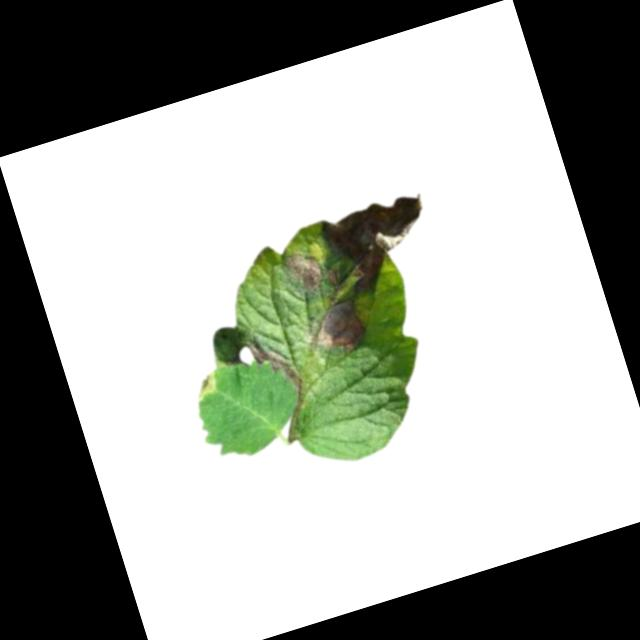Late_blight: (317, 186, 444, 302), (249, 336, 308, 418), (301, 292, 370, 359), (277, 244, 327, 300), (190, 371, 222, 400)
